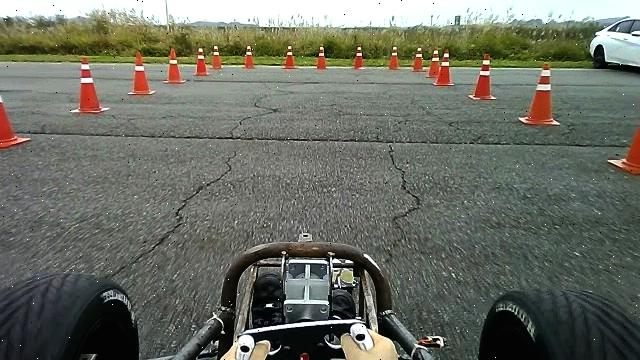red cone: (519, 62, 561, 125), (70, 55, 110, 113), (469, 52, 497, 100), (128, 50, 156, 95), (162, 47, 186, 83), (433, 48, 455, 85), (194, 47, 210, 76), (426, 48, 442, 76), (412, 46, 426, 72), (283, 44, 296, 68), (316, 44, 328, 69), (244, 43, 256, 67), (211, 44, 223, 68), (389, 45, 401, 69), (354, 44, 365, 68)
